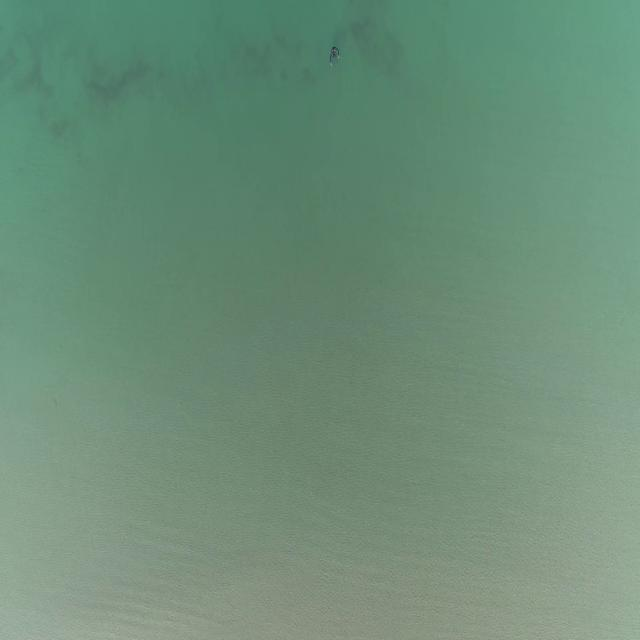person: (328, 46, 342, 66)
